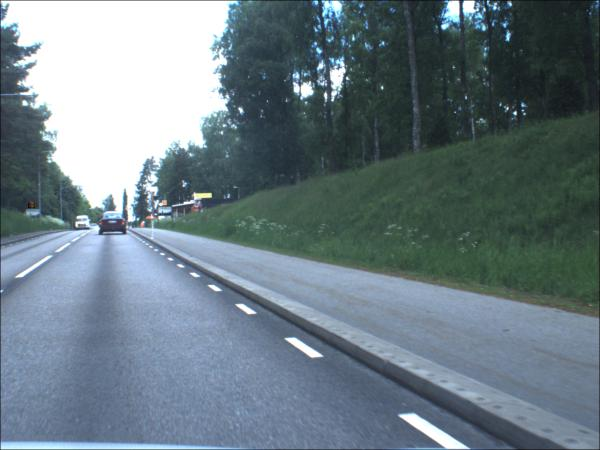50_SIGN: (30, 204, 38, 210), (163, 201, 169, 207)
